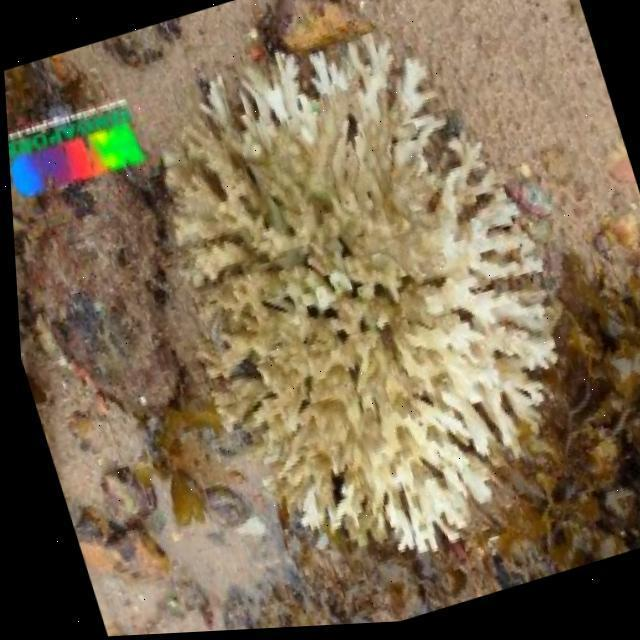Bleached Coral: (210, 43, 555, 516)
